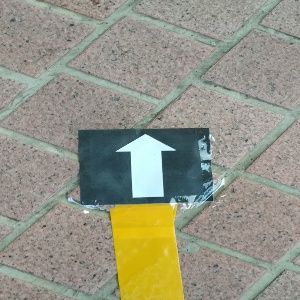straight: (78, 129, 212, 201)
